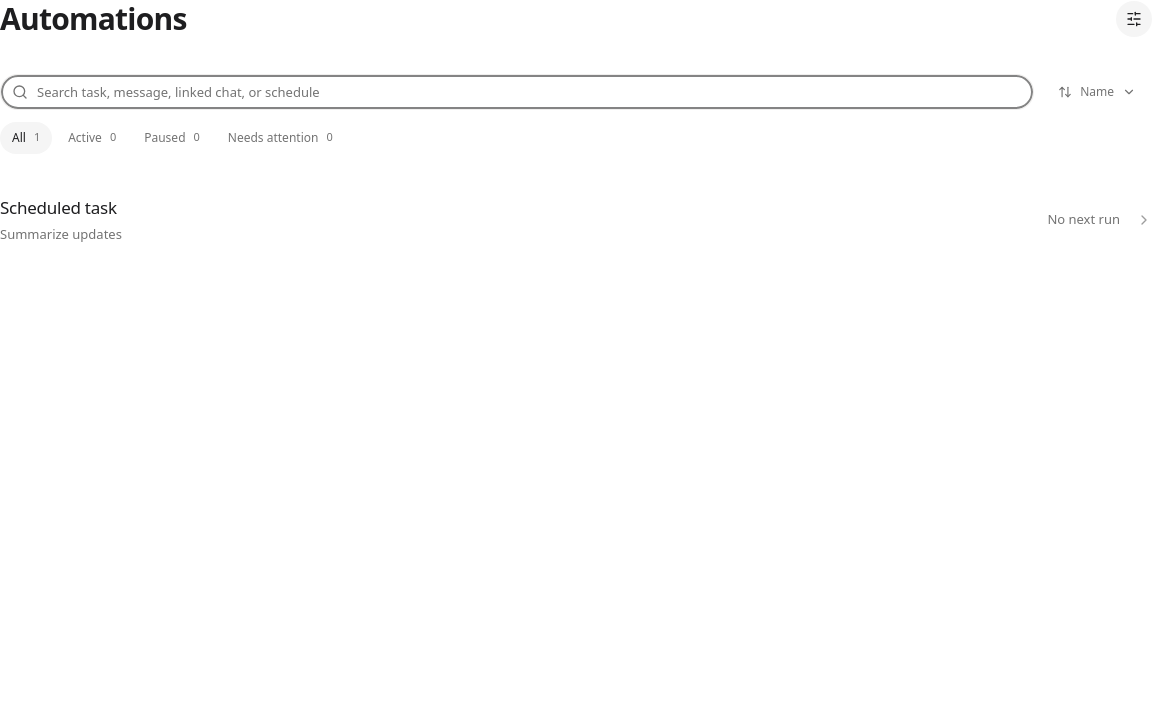
Test: automation channel identity › preserves the label for api
Click the button "Scheduled task Summarize updates No next run" at (58,207), box [0, 174, 1151, 266]
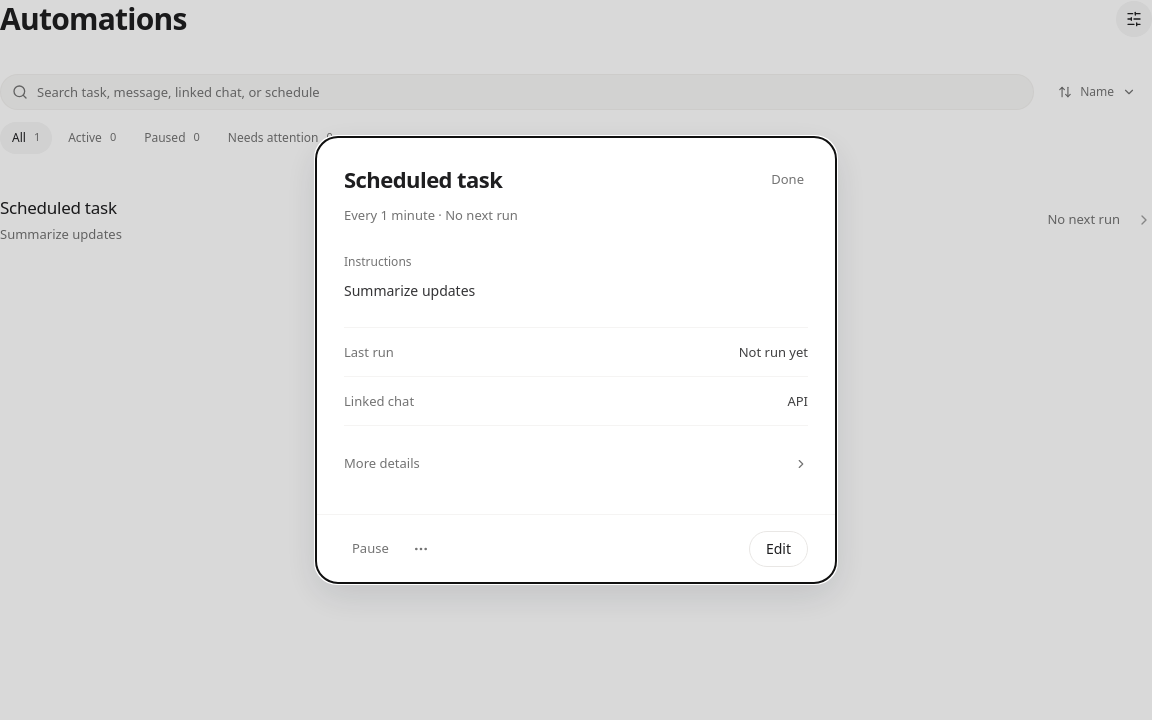
Check: the text "API" is shown, box [787, 392, 808, 410]
